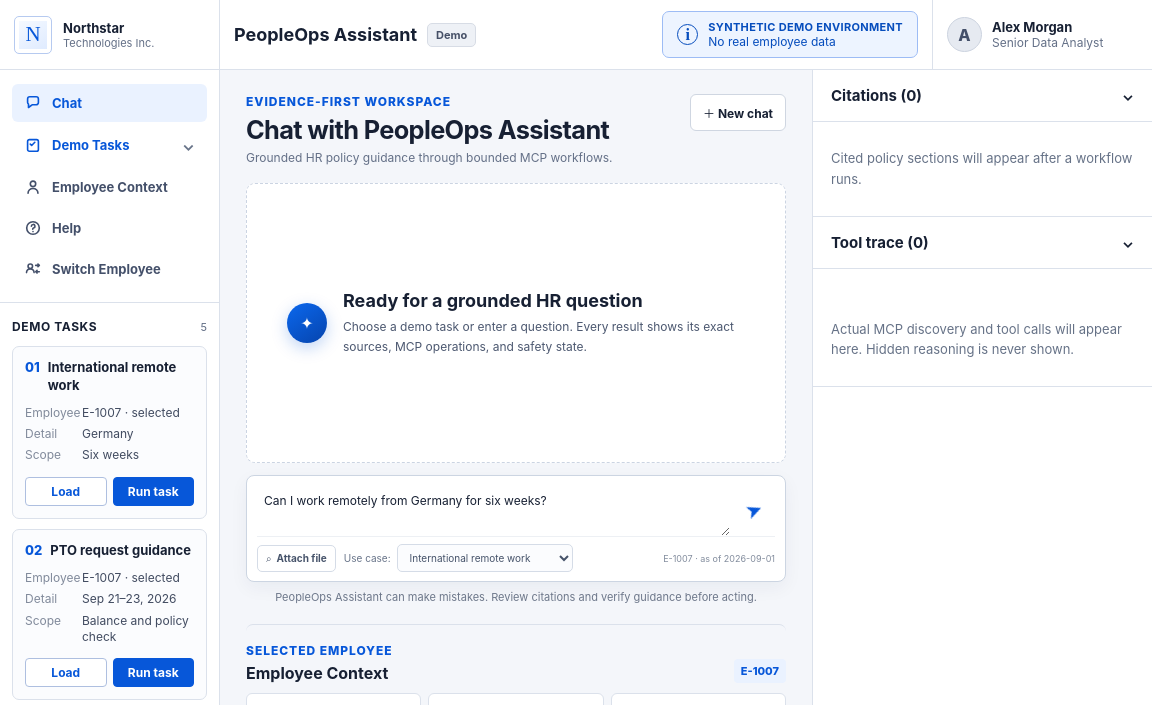
Test case: PeopleOps Assistant Phase 8 evidence-first interface › generates and renders a structured remote-work email draft
Click the button "Send question ➤" at (754, 510), box [732,488,776,532]
(page scrolled)
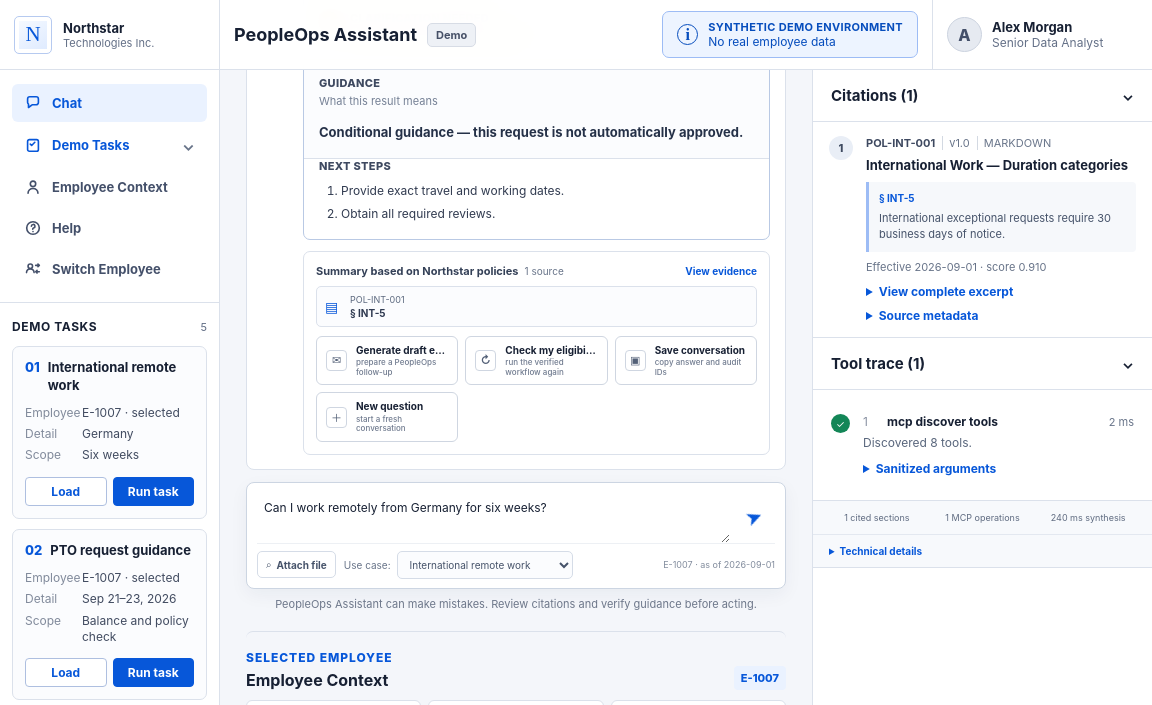
Click the button "Generate draft email" at (387, 360), box [316,336,458,385]
(page scrolled)
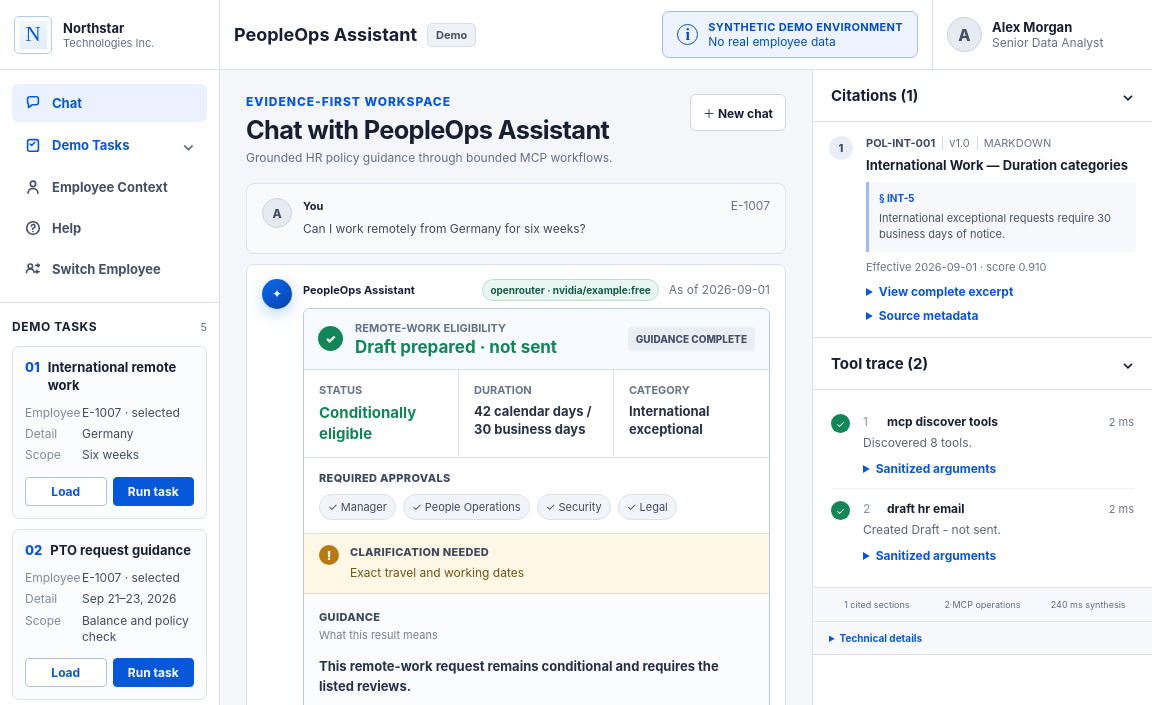
Now the text "E-1007" is shown, box [731,198,770,213]
Now the heading "Draft prepared · not sent" is shown, box [355,337,557,357]
